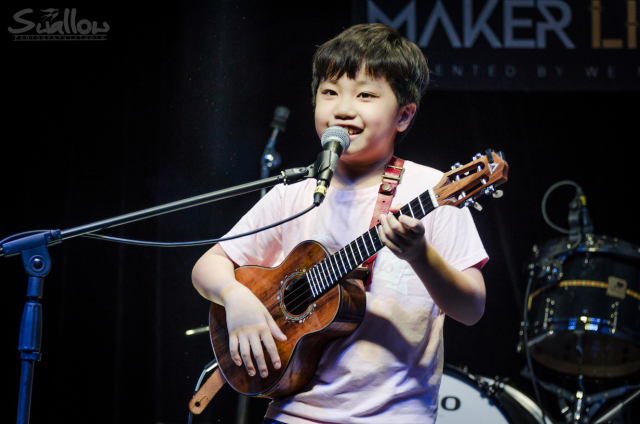other: (190, 20, 505, 423)
